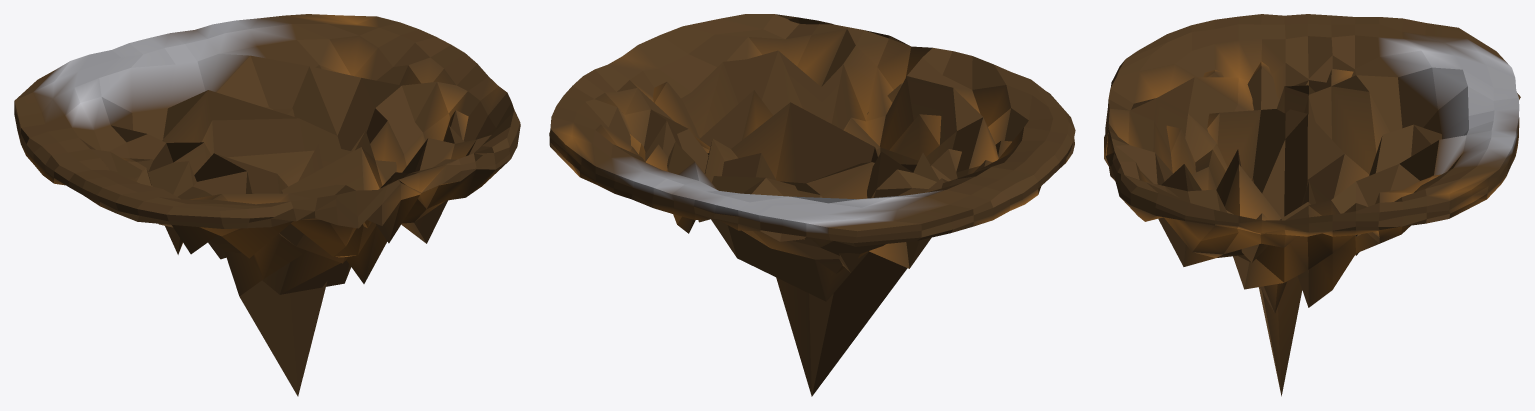
File: floatingIsland.gltf
The picture shows the model from 3 angles, left to right: view 1: azimuth 30°, elevation 25°; view 2: azimuth 150°, elevation 25°; view 3: azimuth 270°, elevation 25°; orthographic projection. The views are drawn at different scales.
Parts seen in each view (by area): view 1: Куб; view 2: Куб; view 3: Куб.
Part boxes in pixels (left/top/right/bottom): Куб: left=14, top=14, right=520, bottom=396; Куб: left=549, top=14, right=1075, bottom=396; Куб: left=1104, top=14, right=1520, bottom=396.
Size of the model in its own units: 593 by 372 by 507.
